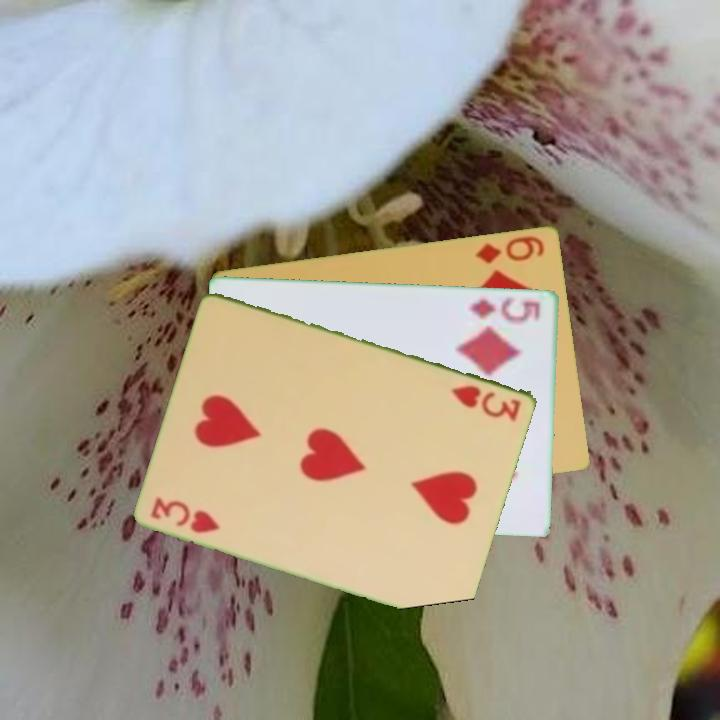3h: (147, 493, 224, 536), (449, 381, 525, 424)
5d: (465, 293, 544, 325)
6d: (472, 232, 548, 266)
